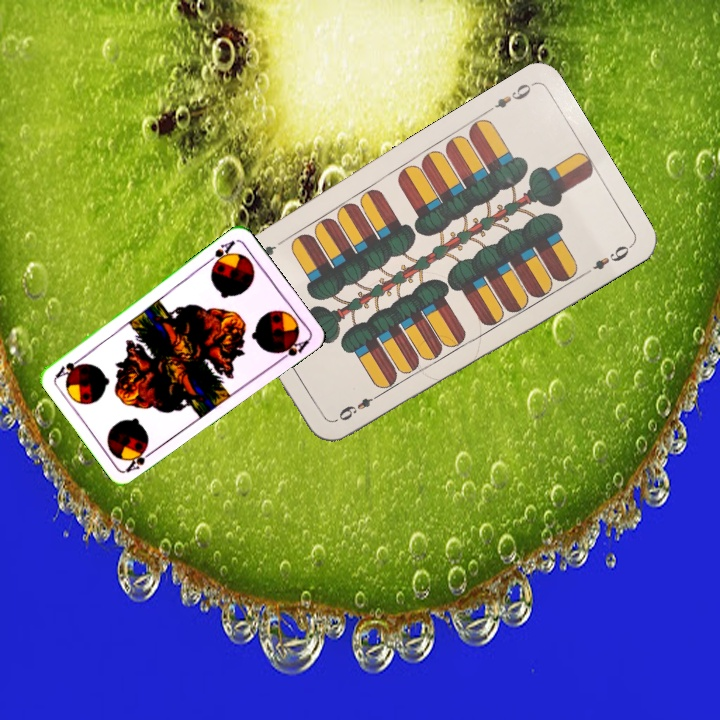E9: (331, 388, 385, 424), (482, 79, 536, 115)
SA: (203, 236, 238, 270), (122, 445, 158, 475)
